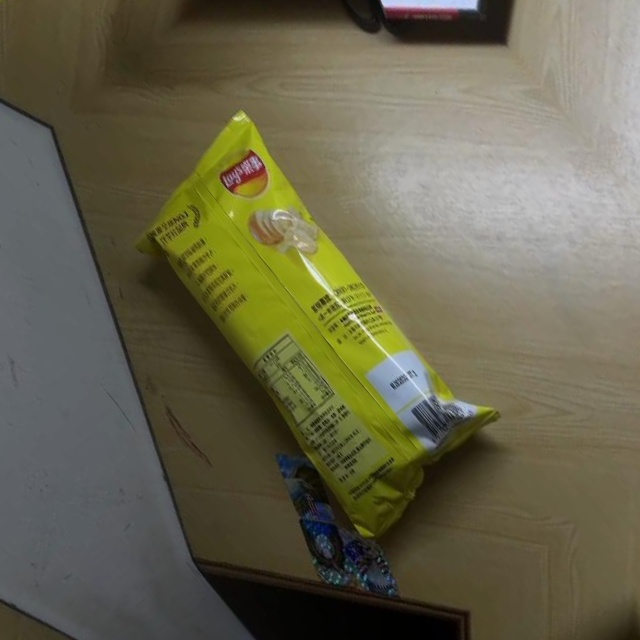Lay-s-original: (99, 104, 514, 548)
